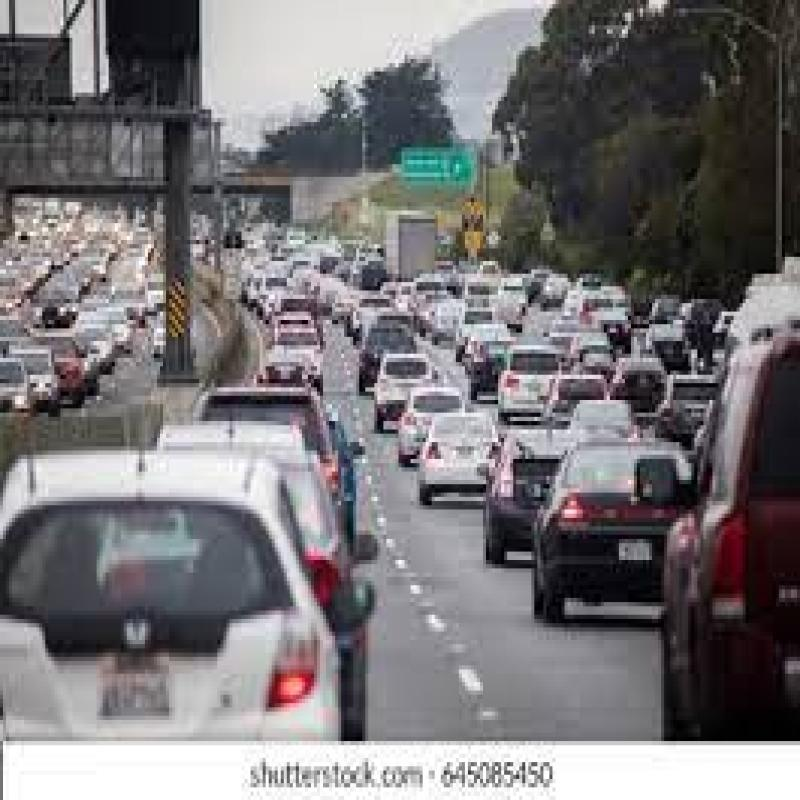car: (0, 411, 337, 800), (687, 293, 800, 687), (535, 434, 702, 609), (413, 408, 504, 526), (360, 332, 431, 418), (399, 376, 460, 448)
